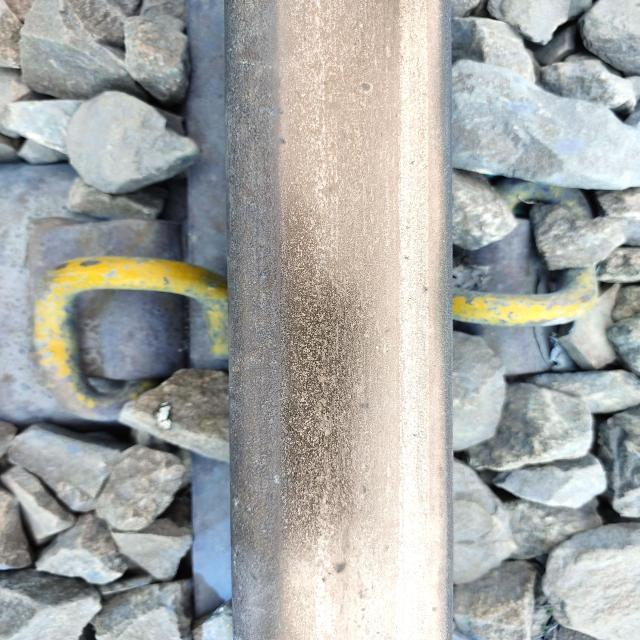Good Fasteners: (0, 191, 251, 413), (478, 164, 598, 401)
